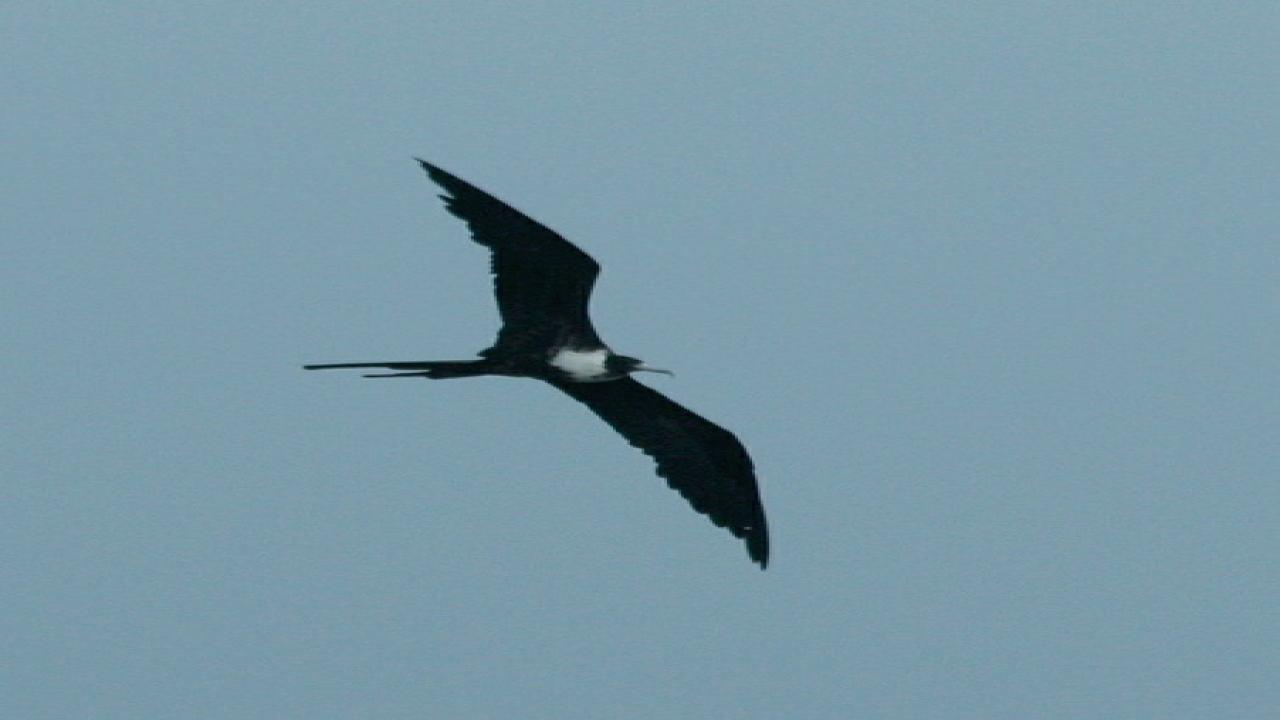Bird: (294, 147, 796, 576)
